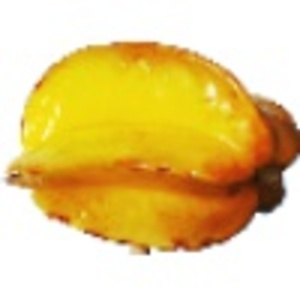carambola: (4, 39, 300, 257)
